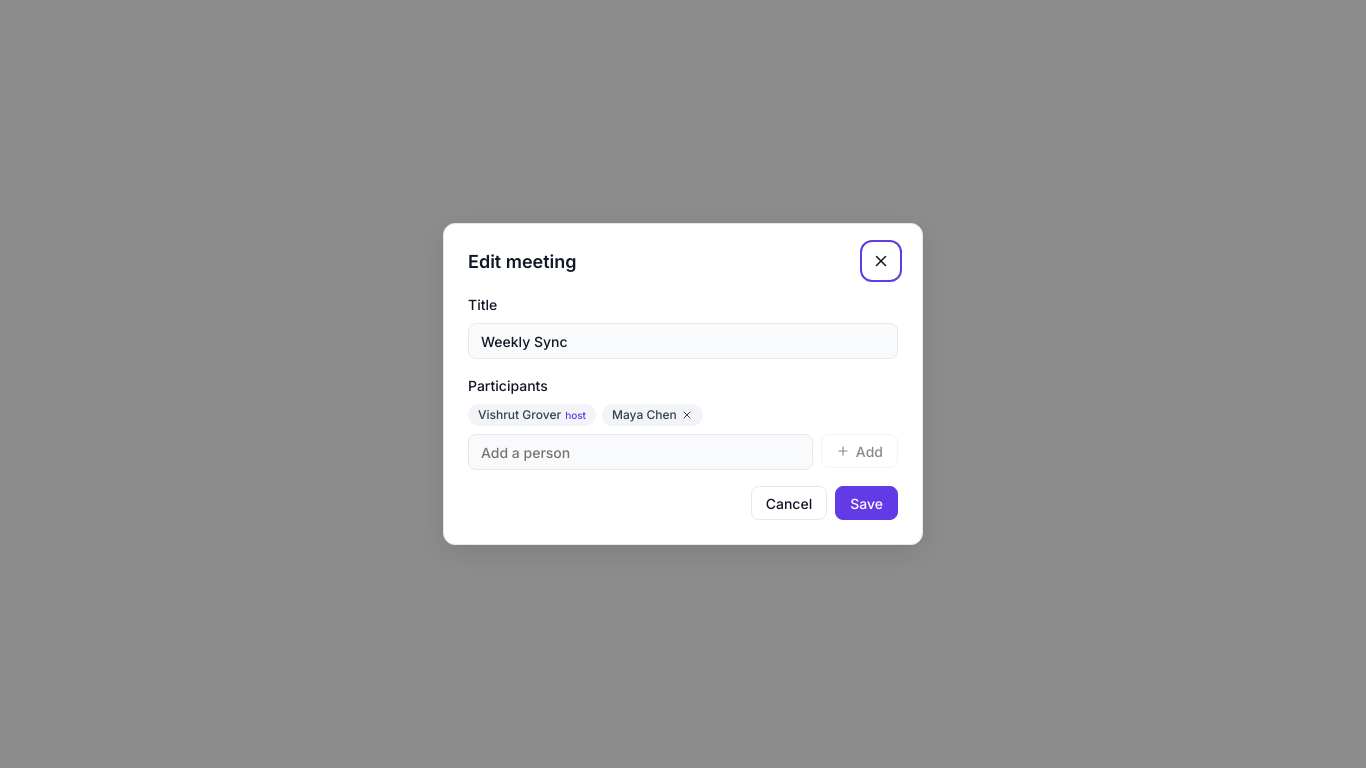
Test: EditMeetingModal › saves the new title and the full list of people
This screenshot has width=1366, height=768.
Replace the text in the field showing "Weekly Sync" with "  Renamed  " at [683, 341], box [468,323,898,359]
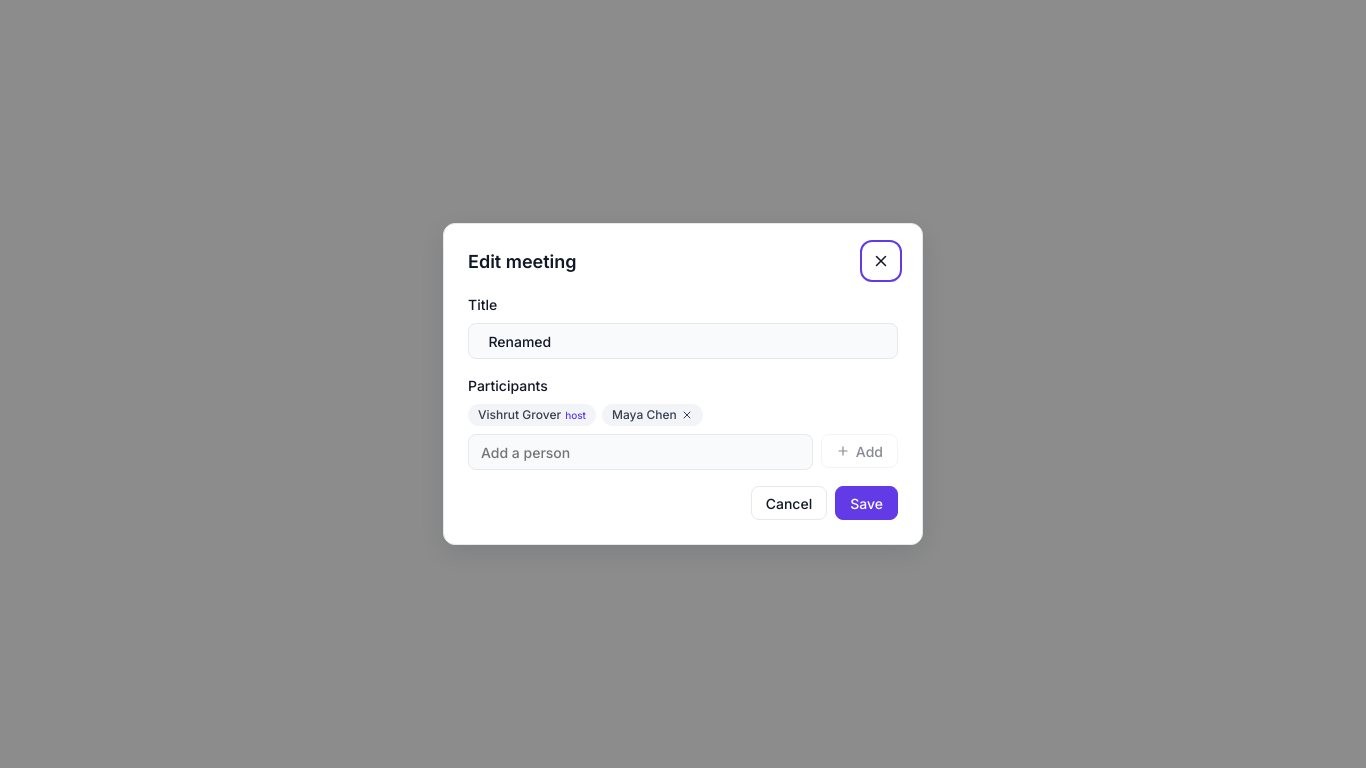
Click the button named "Remove Maya Chen" at [687, 415], box [681,409,693,421]
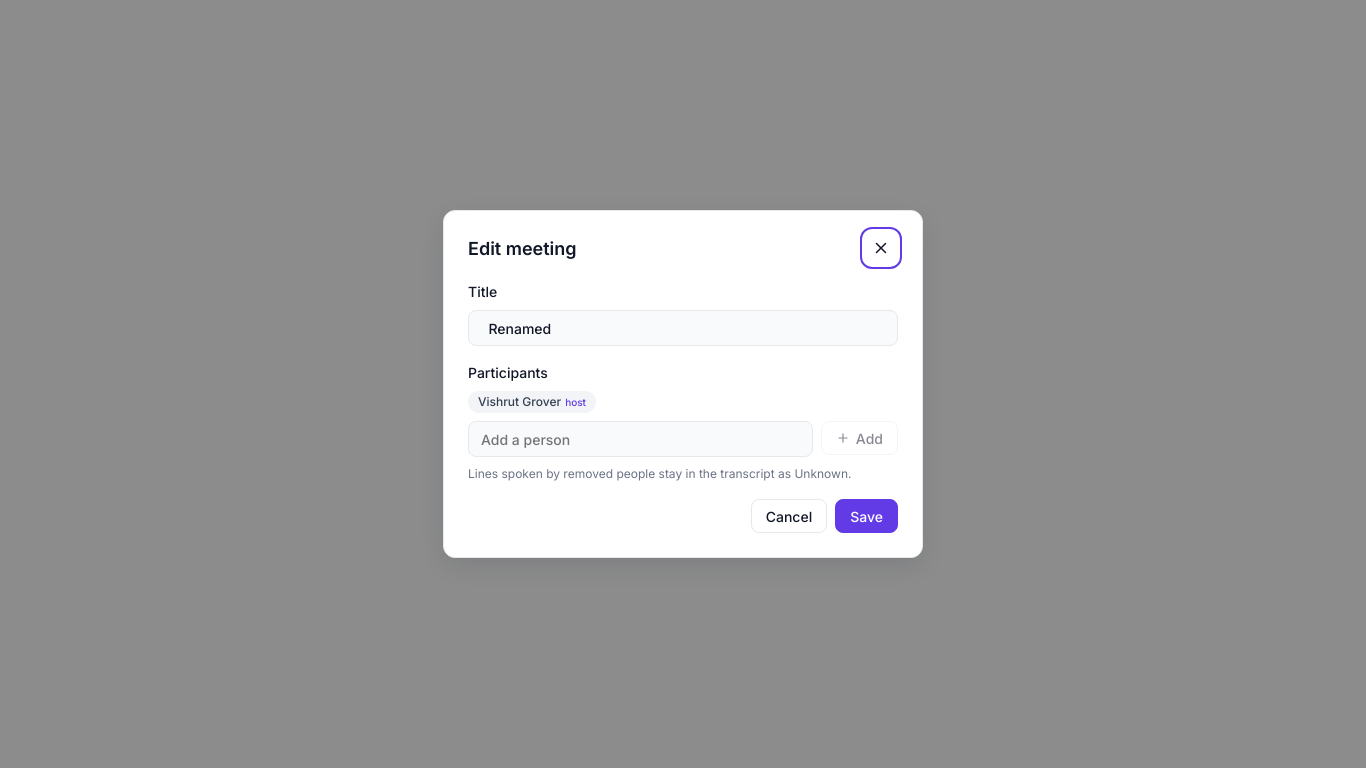
Type "Cara Diaz" into the field labelled "Add a person" at [640, 439], box [468,421,813,457]
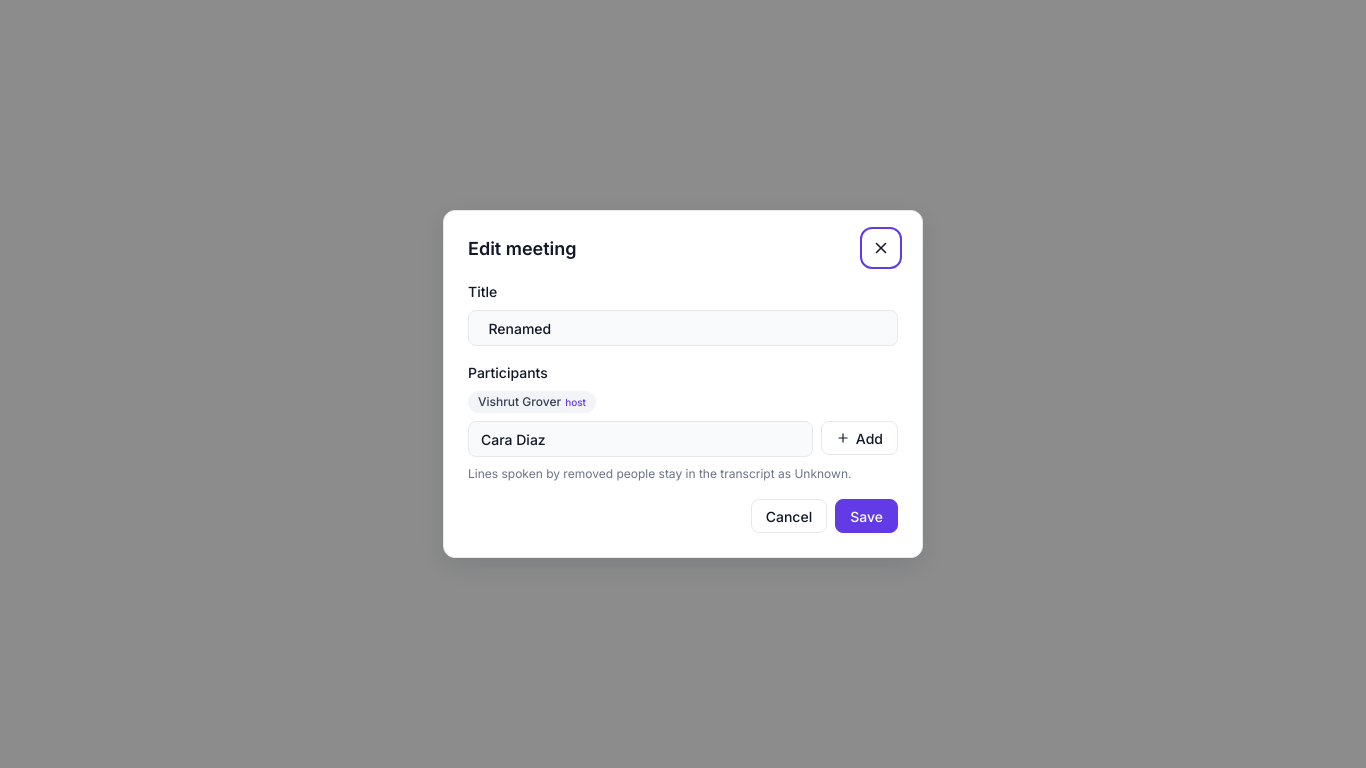
Click the button "Add" at [859, 438], box [821,421,898,455]
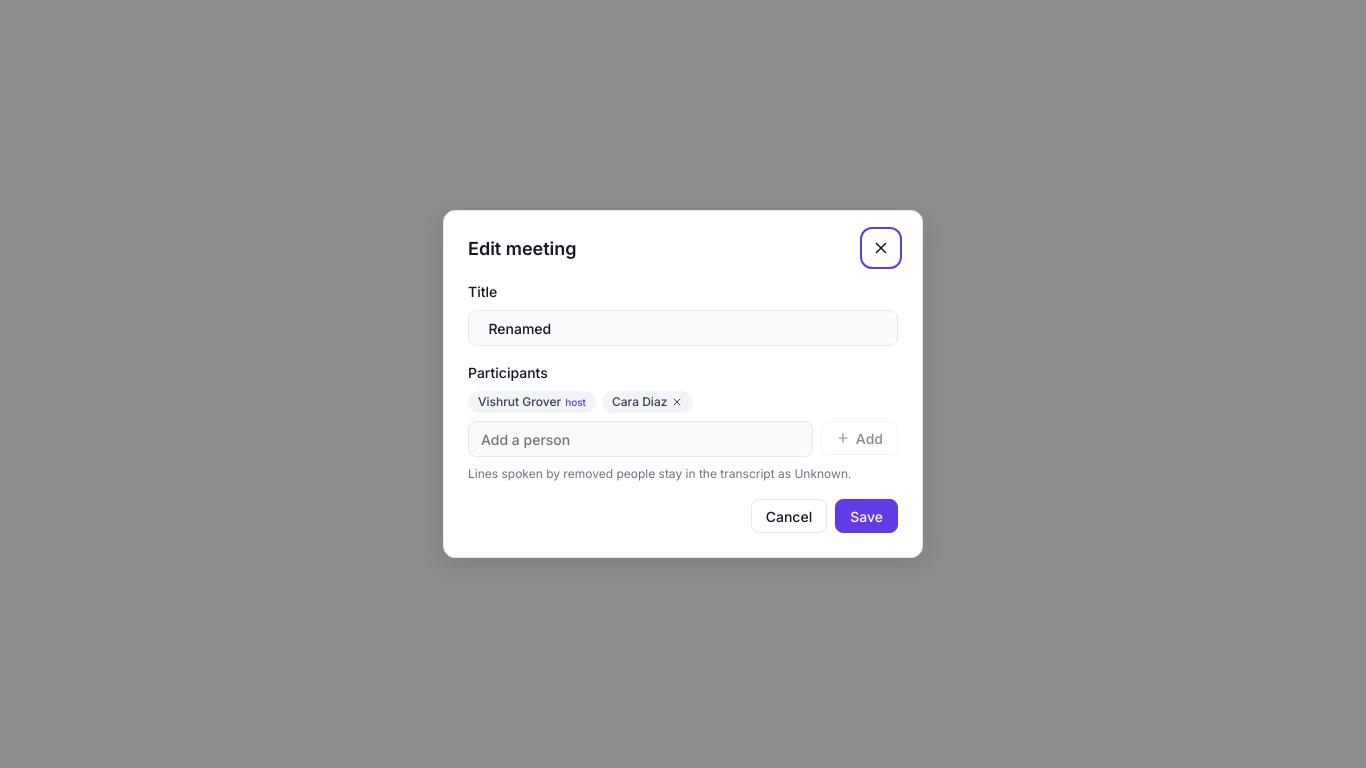
Click the button "Save" at [867, 516], box [835,499,898,533]
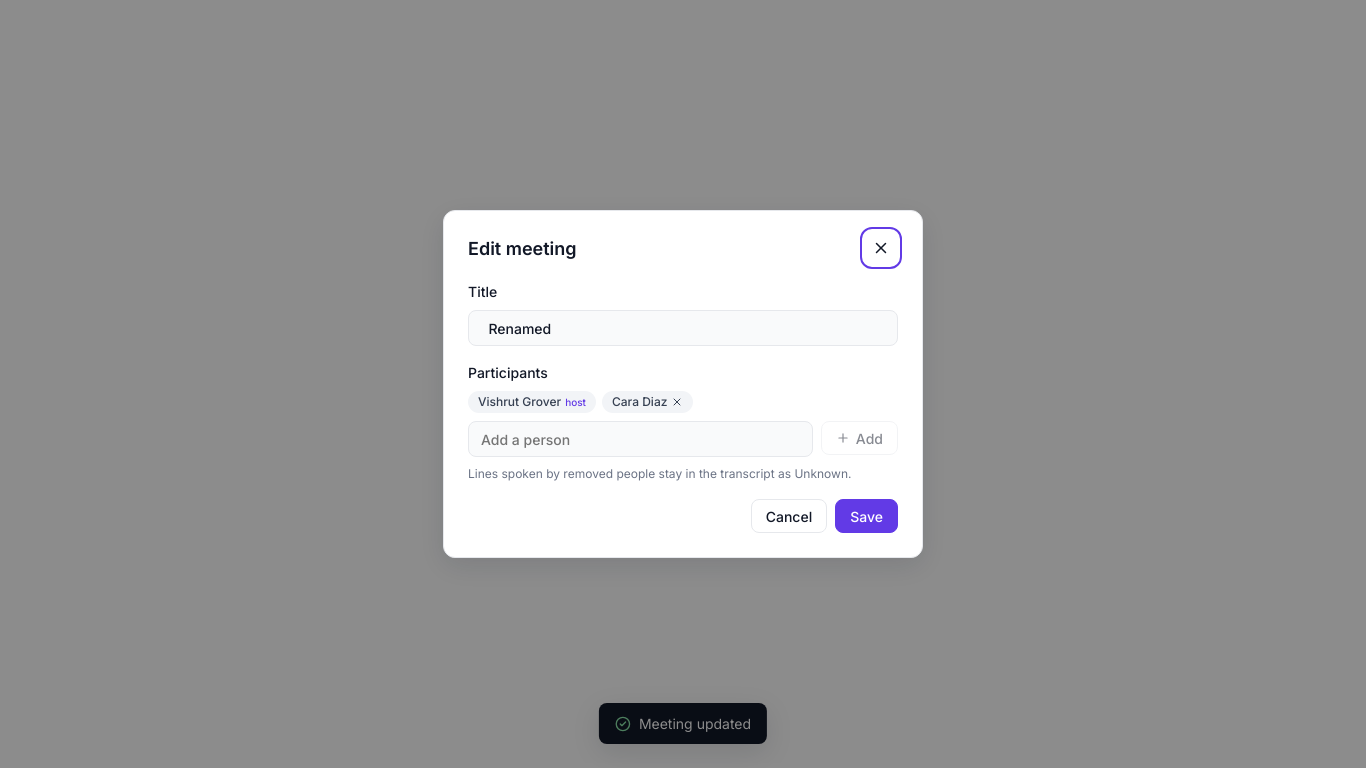
Check: the text "Meeting updated" is shown, box [599,703,767,744]
